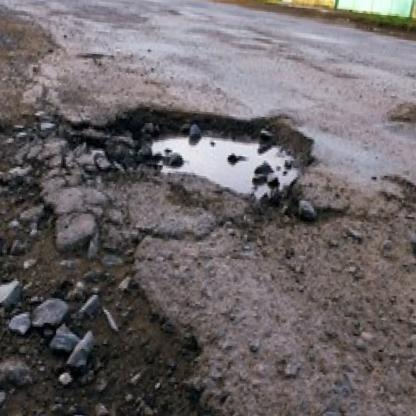pothole: (126, 94, 322, 226)
